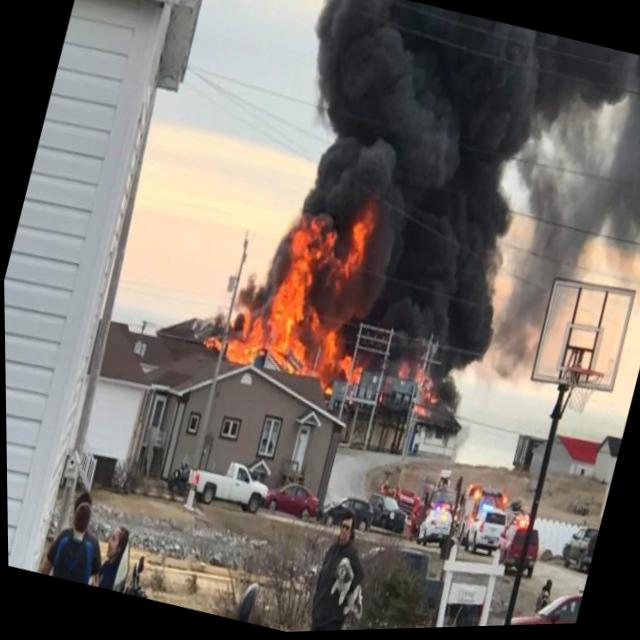fire: (190, 165, 413, 412), (382, 357, 448, 425)
